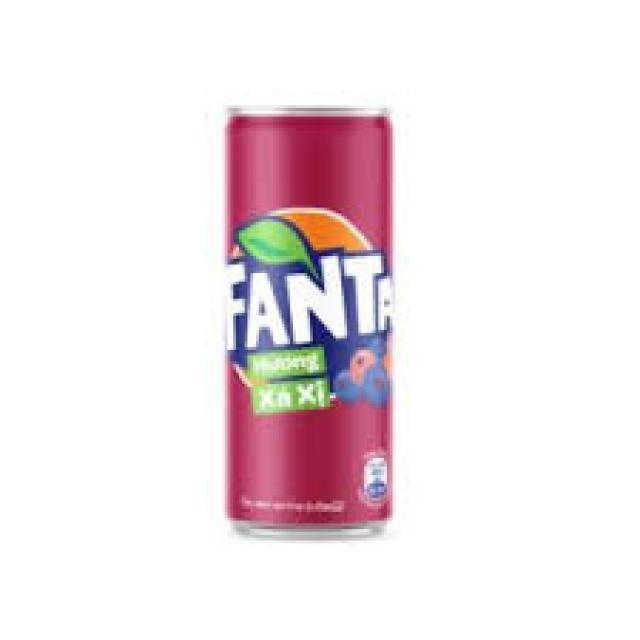Cans: (216, 94, 413, 546)
